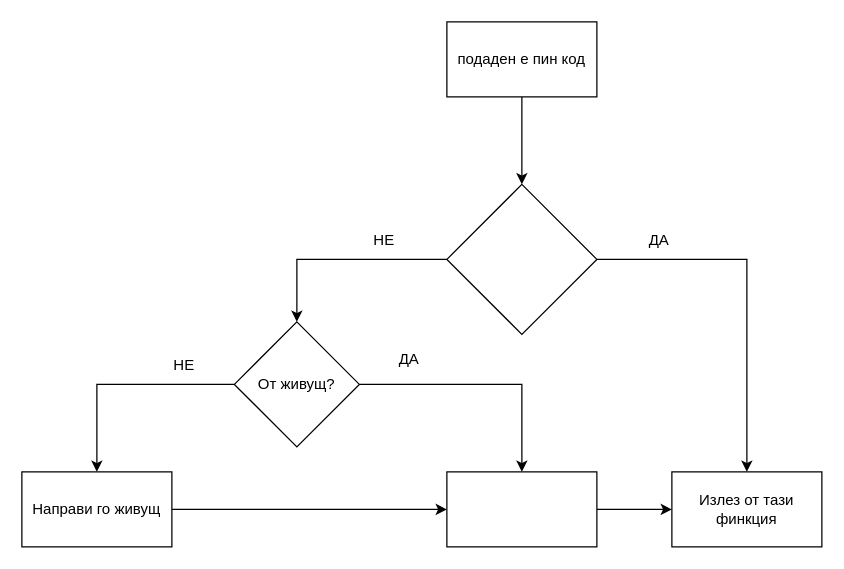
Some shapes in this 844 by 569 pixel diagram are drawn without their labels. The shapes that lost their labels are listed below. From the top down, each one's box as (x1, y1, x2, y2) in pixels, then its label:
(446, 183, 597, 334): от администратор?
(446, 471, 597, 547): направи го админ
